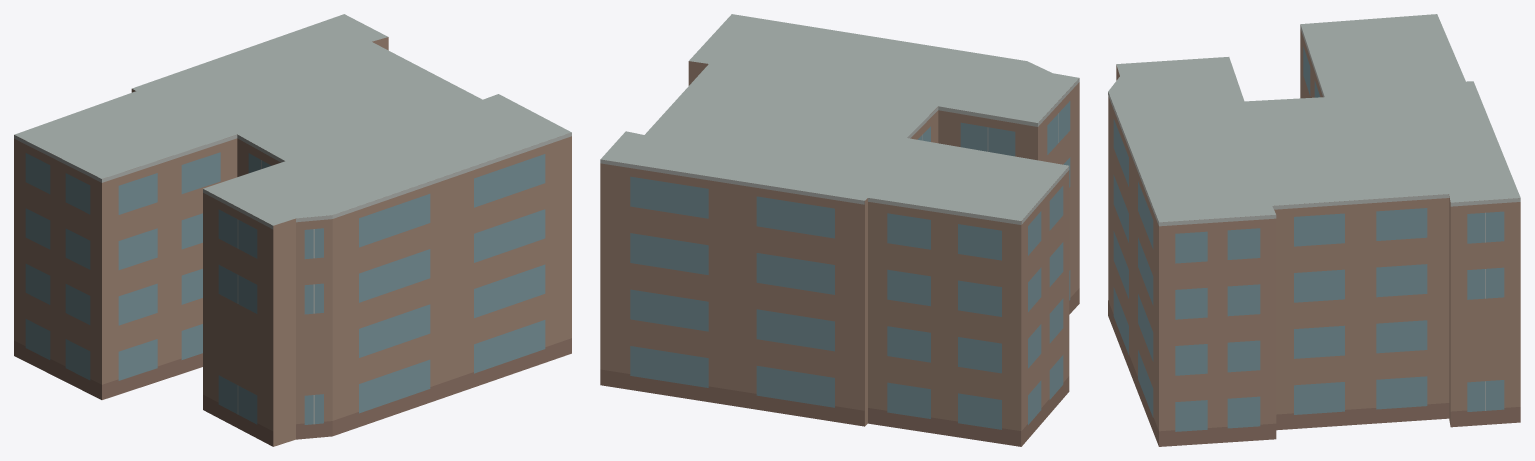
File: survey-upis-32712668.glb
The picture shows the model from 3 angles, left to right: view 1: azimuth 30°, elevation 25°; view 2: azimuth 150°, elevation 25°; view 3: azimuth 270°, elevation 25°; orthographic projection. The views are drawn at different scales.
Parts seen in each view (by area): view 1: survey-upis-32712668.tmp; view 2: survey-upis-32712668.tmp; view 3: survey-upis-32712668.tmp.
Part boxes in pixels (left/top/right/bottom): survey-upis-32712668.tmp: left=14, top=14, right=571, bottom=446; survey-upis-32712668.tmp: left=600, top=14, right=1079, bottom=446; survey-upis-32712668.tmp: left=1108, top=14, right=1520, bottom=446.
Bounding box in the file's own units: 27.88 × 14 × 23.33.
